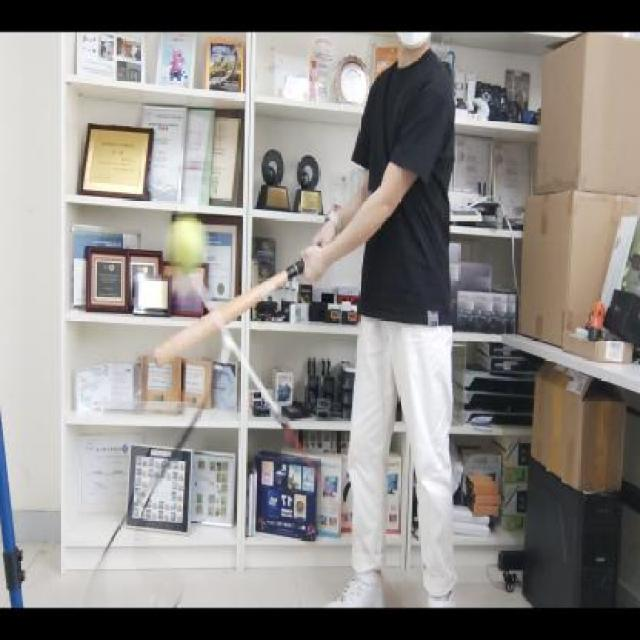baseball: (164, 214, 216, 274)
